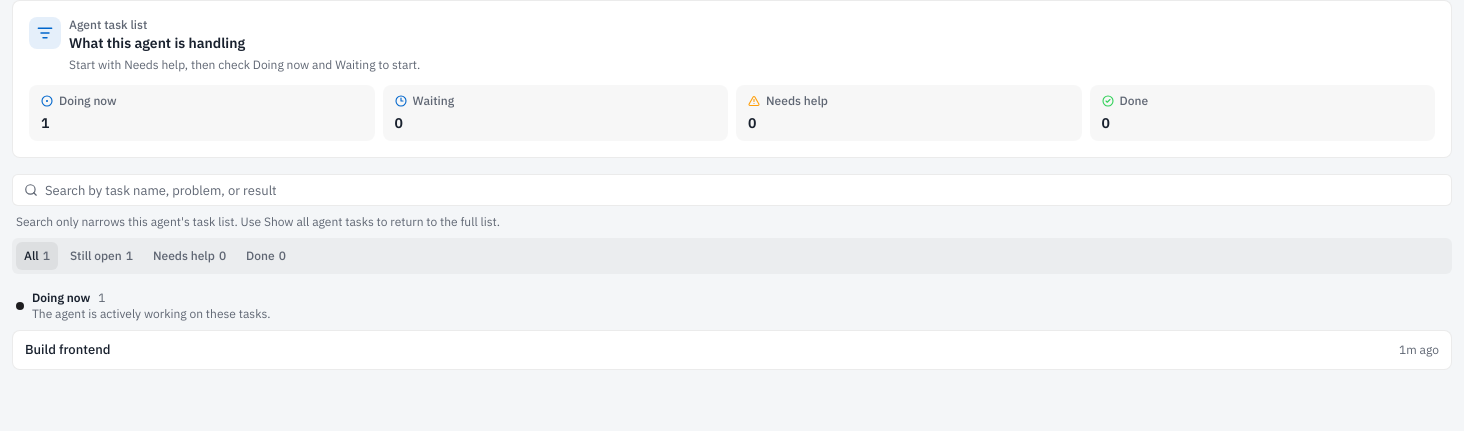
it: AgentTasksTab › shows a filtered empty state
Expected: the text "Build frontend" is shown, [25,341,110,358]
Click the button with aria-label "show finished tasks for this agent, 0 matching tasks". click: (266, 256)
box: [238,242,294,270]
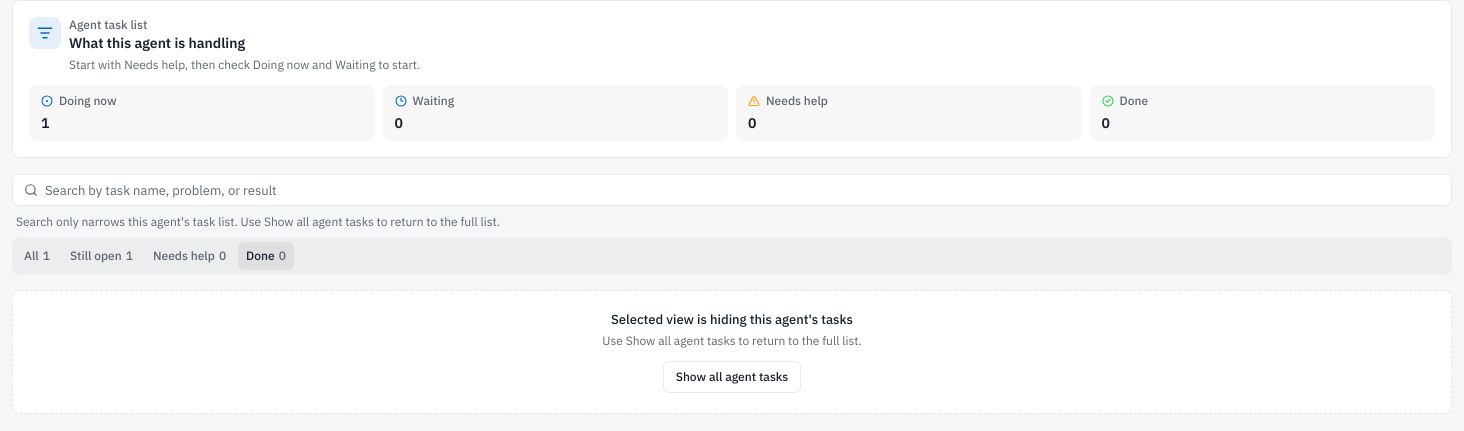
Expected: the message with test id "agent-tasks-filter-empty" is shown, [12,290,1452,414]
Expected: the text "Selected view is hiding this agent's tasks" is shown, [611,311,853,328]
Expected: the message with test id "agent-tasks-filter-empty" shows "Use Show all agent tasks to return to the full list.", [602,333,862,348]
Click the button "Show all agent tasks". click: (732, 377)
box: [663,361,801,393]
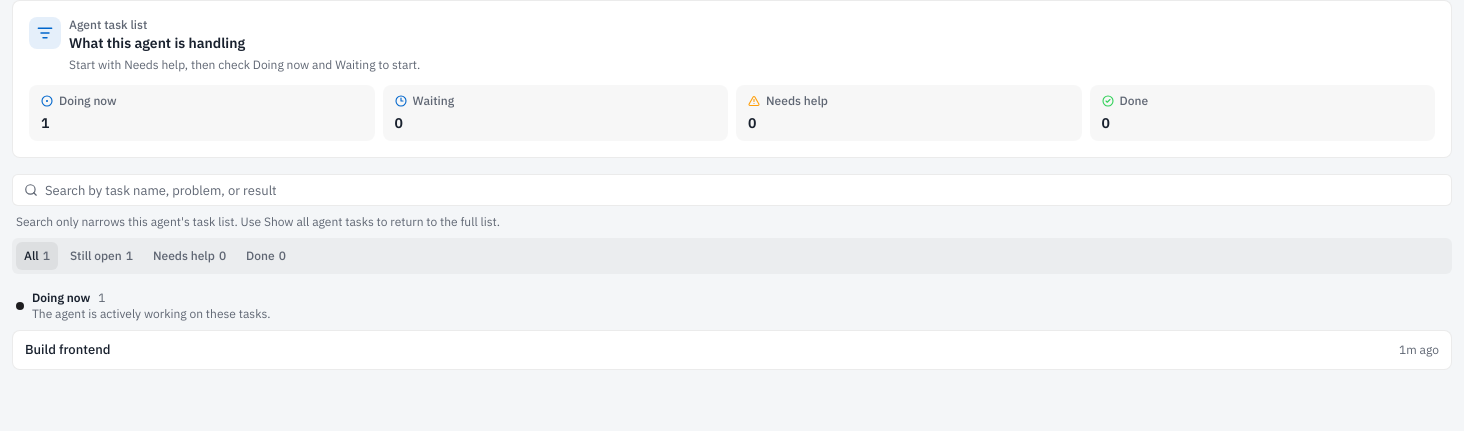
Expected: the text "Build frontend" is shown, [25,341,110,358]
